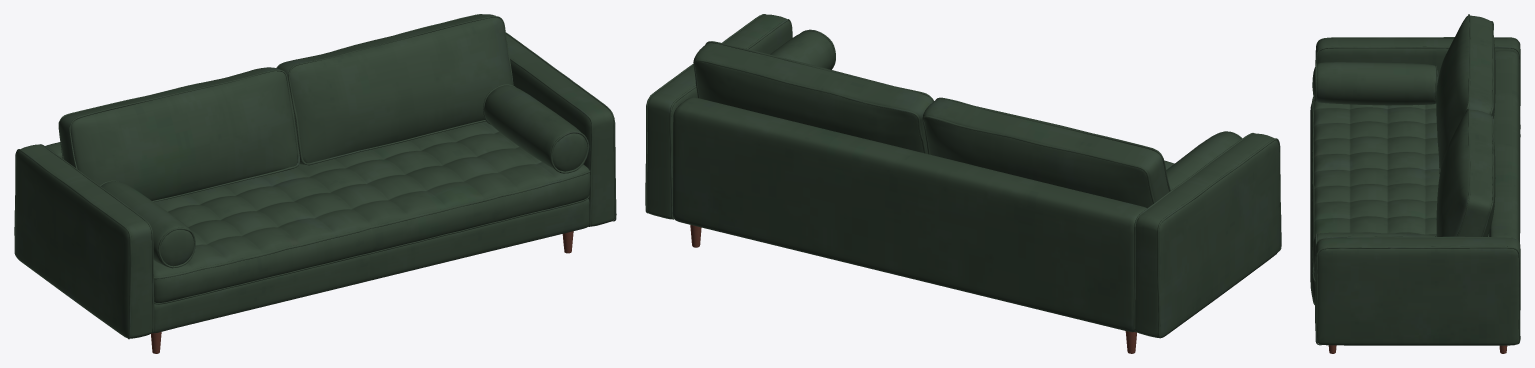
Rendered from abo-B07BKKXRVC.glb.
The picture shows the model from 3 angles, left to right: view 1: azimuth 30°, elevation 25°; view 2: azimuth 150°, elevation 25°; view 3: azimuth 270°, elevation 25°; orthographic projection. The views are drawn at different scales.
Size of the model in its own units: 2.2 by 0.7689 by 0.9179.
Materials: 1 (1 with a texture image).
